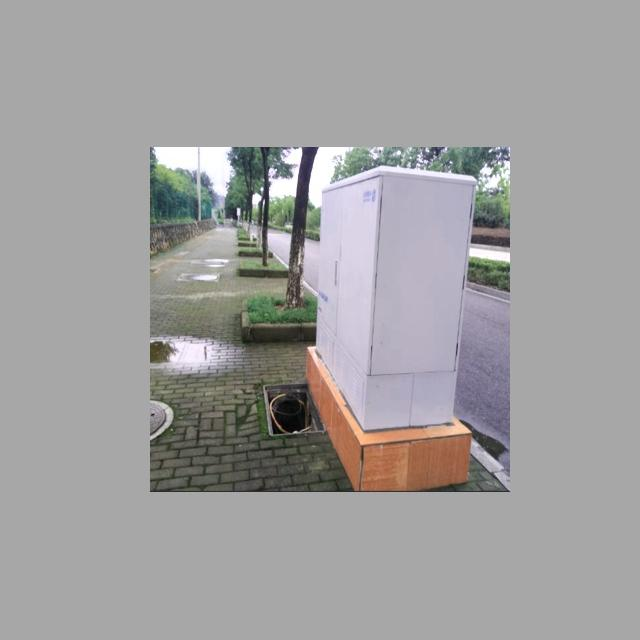lose: (264, 382, 328, 437)
